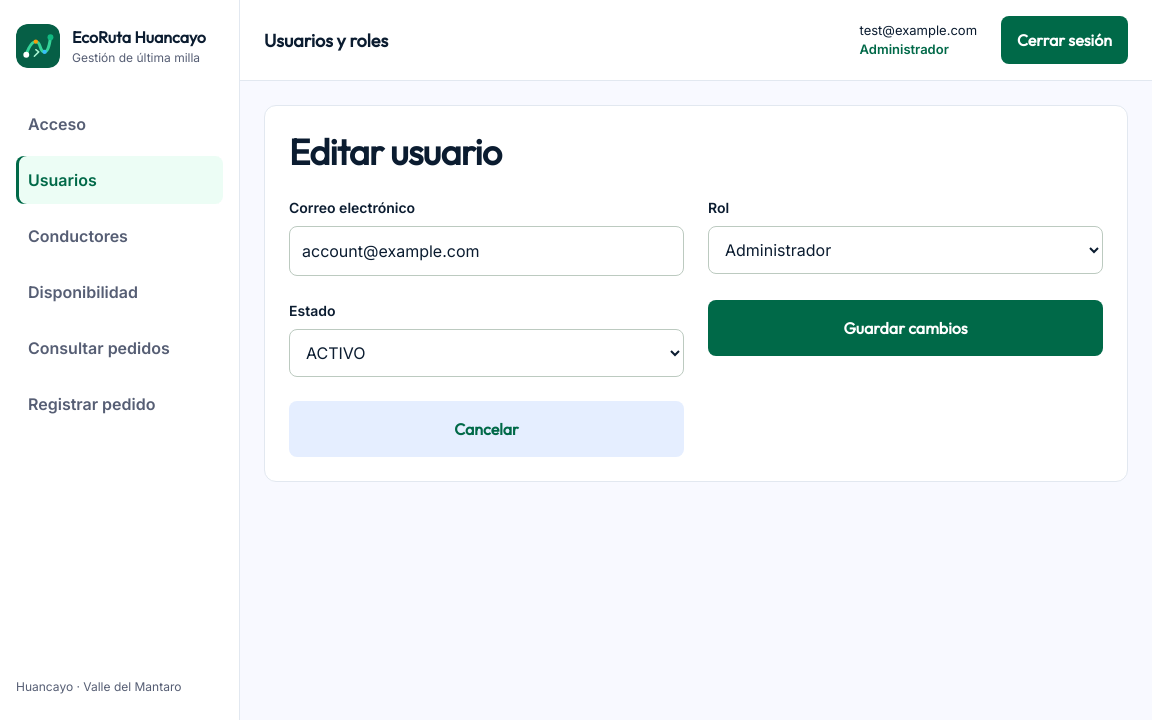
Scenario: US-003 interfaz › edita email, rol y estado sin campo contraseña; refleja cambios
Replace the text in the field labelled "Correo electrónico" with "changed@example.com" at (486, 251), box [289,226,684,276]
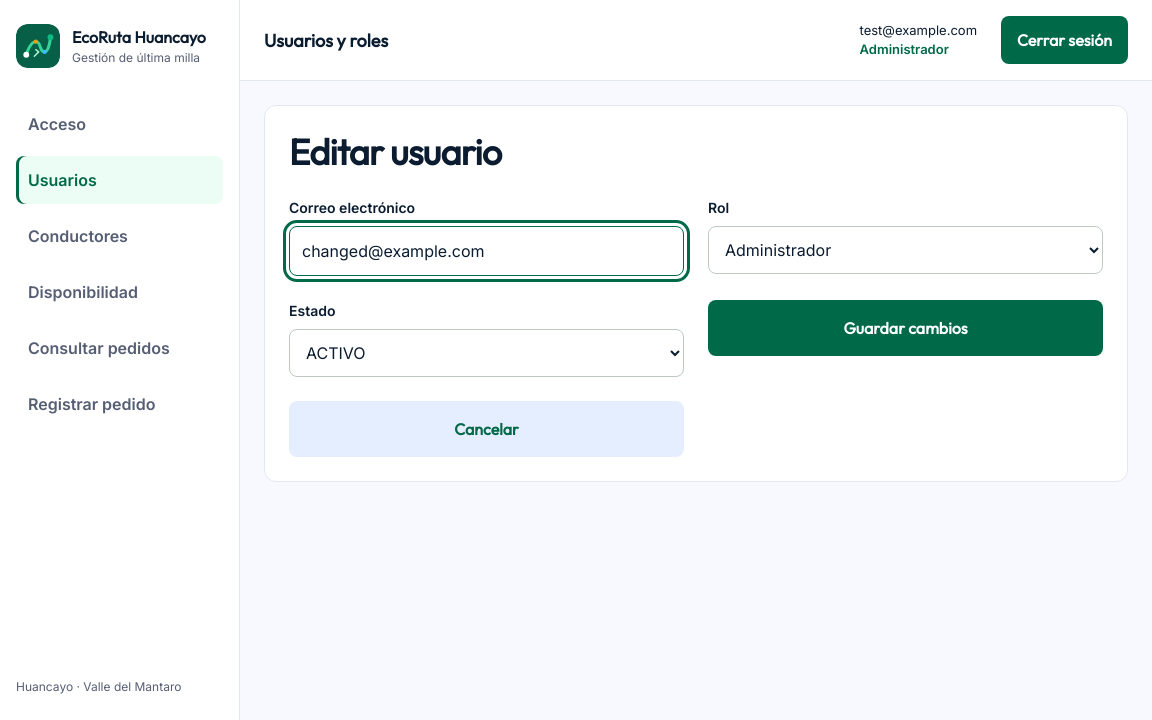
Select "Auditor Externo" in the dropdown labelled "Rol" at (906, 250), box [708,226,1103,274]
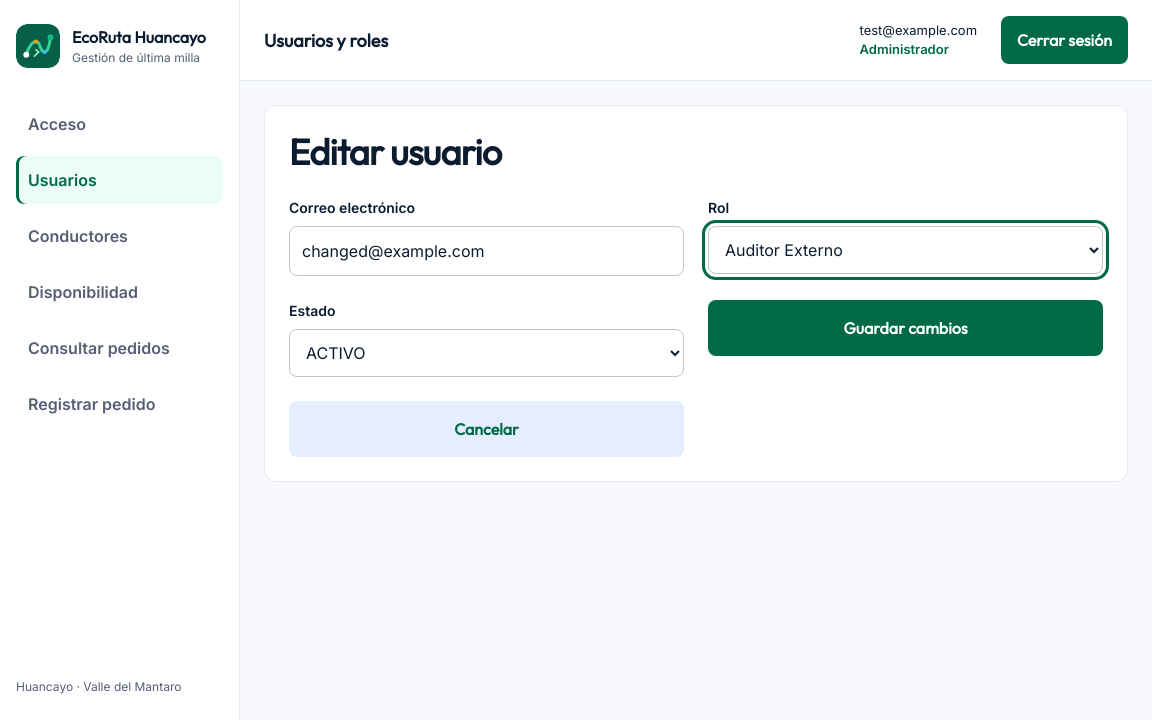
Select "BLOQUEADO" in the dropdown labelled "Estado" at (486, 353), box [289,329,684,377]
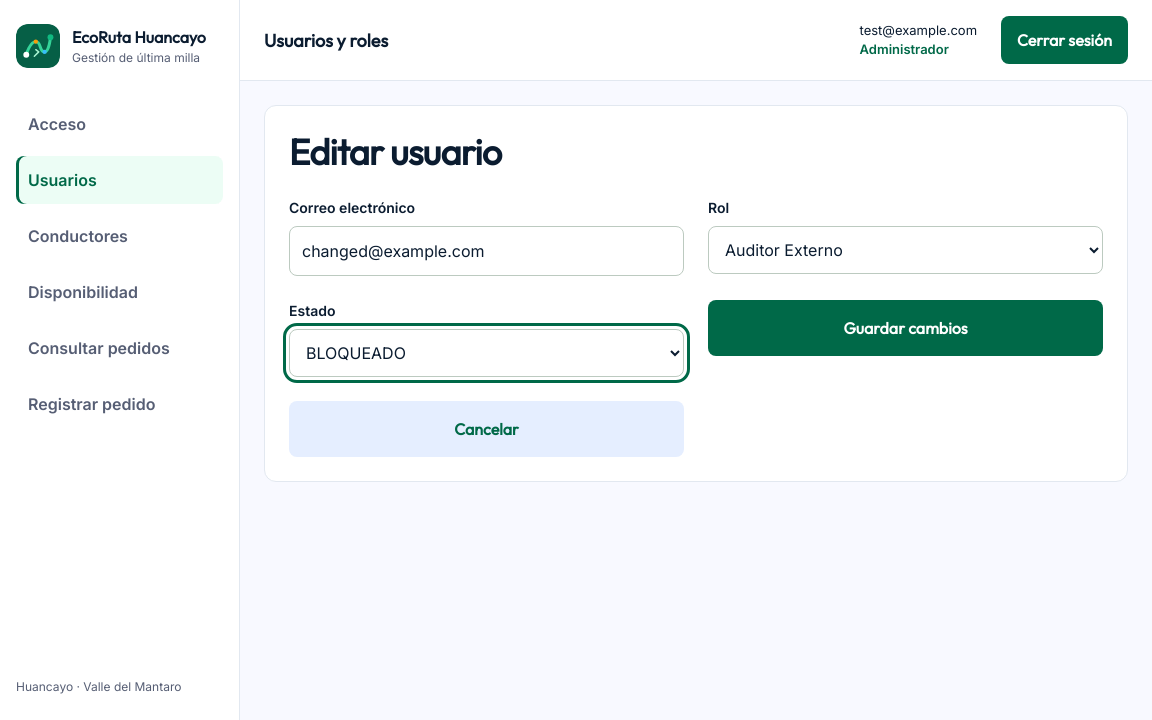
Click the button "Guardar cambios" at (906, 328), box [708,300,1103,356]
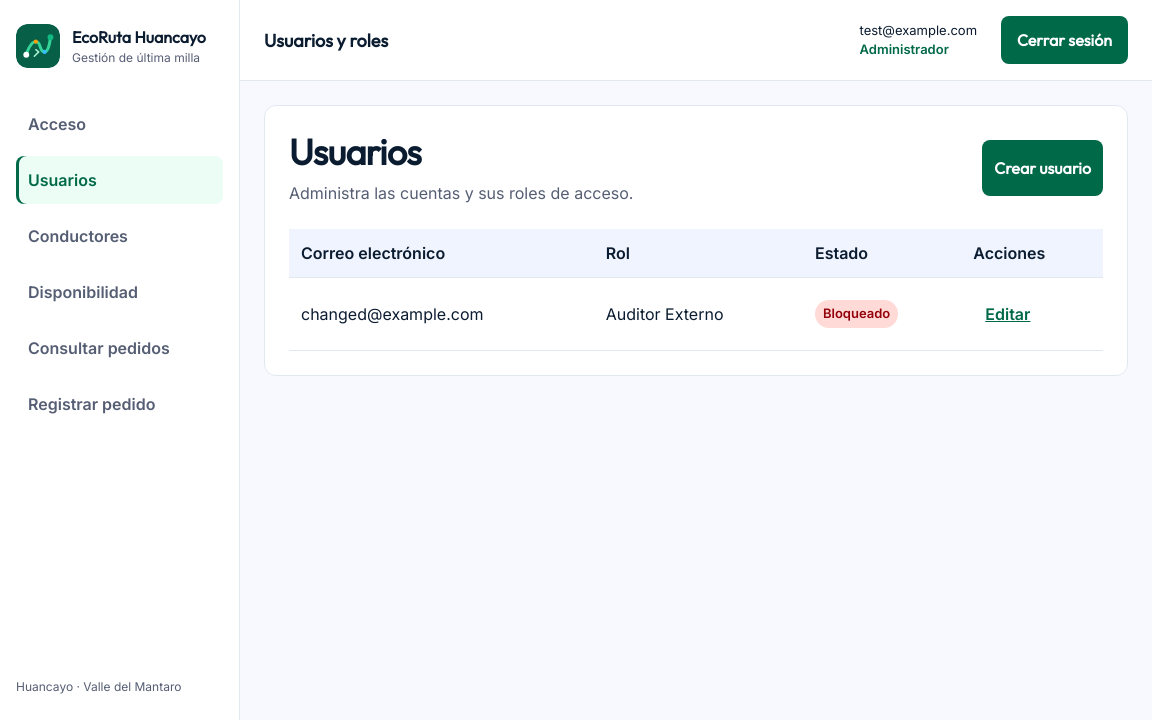
Check: the cell "changed@example.com" is shown, box [289,278,594,351]
Check: the text "Bloqueado" is shown, box [815,300,898,328]
